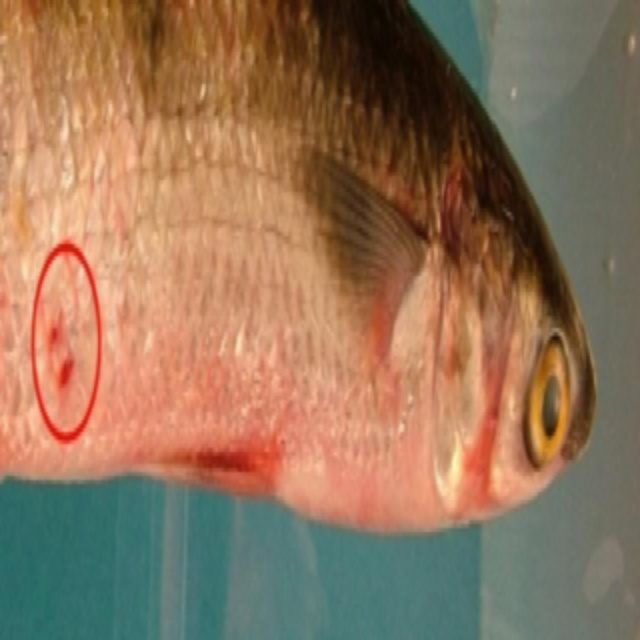EUS Disease: (0, 0, 605, 522), (17, 176, 282, 489)
